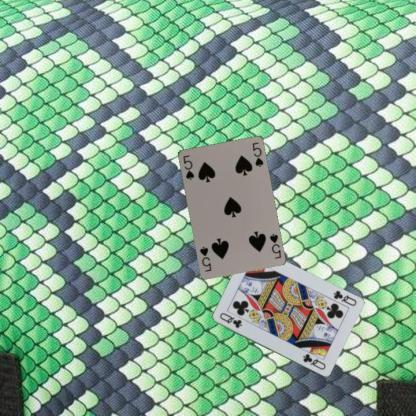5s: (180, 152, 196, 181), (267, 231, 282, 260)
Qc: (330, 288, 358, 308), (216, 310, 242, 330)
